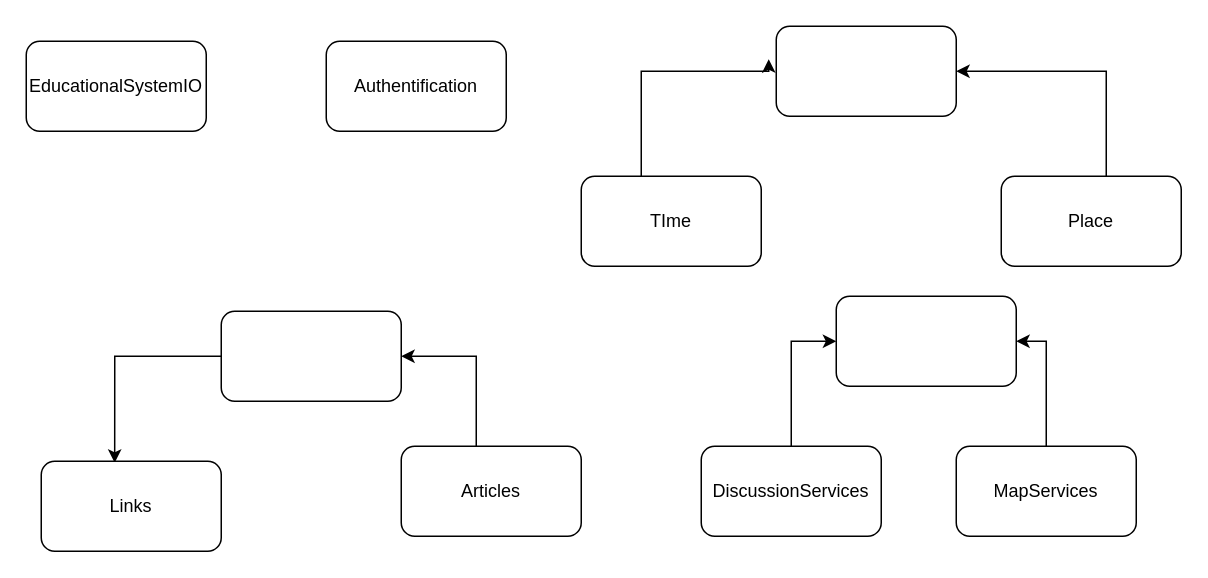
This 1208x578 diagram has some shape labels left out. The centre of each missing label's shape, as x and y in pixels:
"Ressources" goes at [310,355].
"Services" goes at [925,340].
"Timeline" goes at [865,70].
